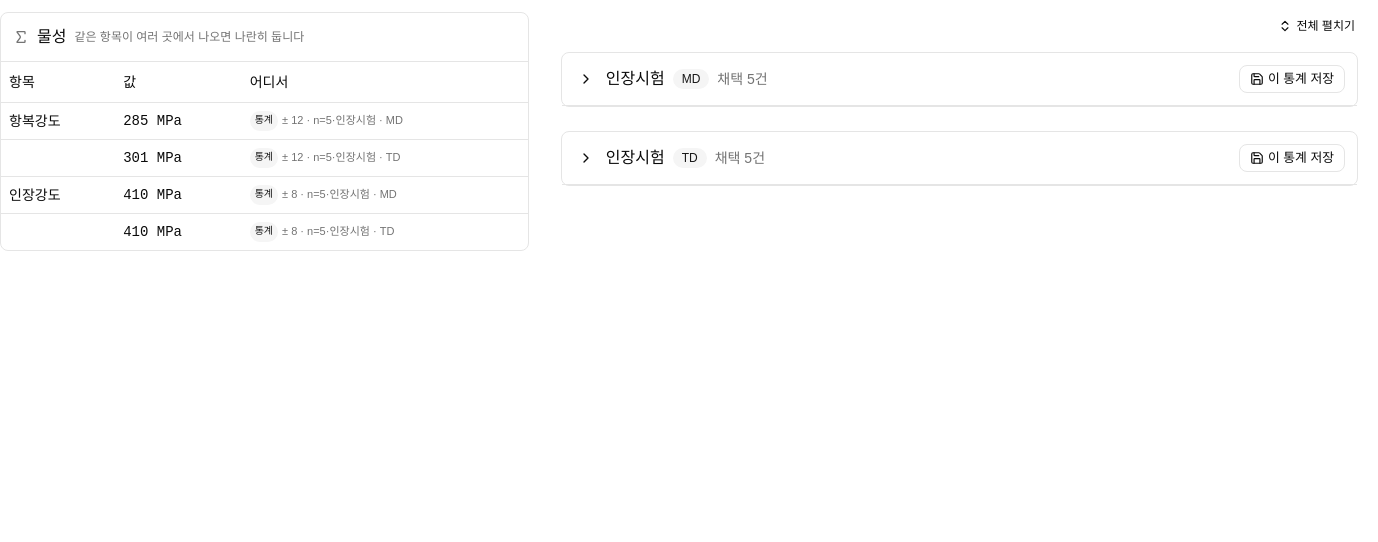
Test: 전체 여닫기 › 한 번에 전부 접힌다
The image size is (1378, 542).
Click the button "전체 펼치기": (1317, 26) [1267,12,1366,40]
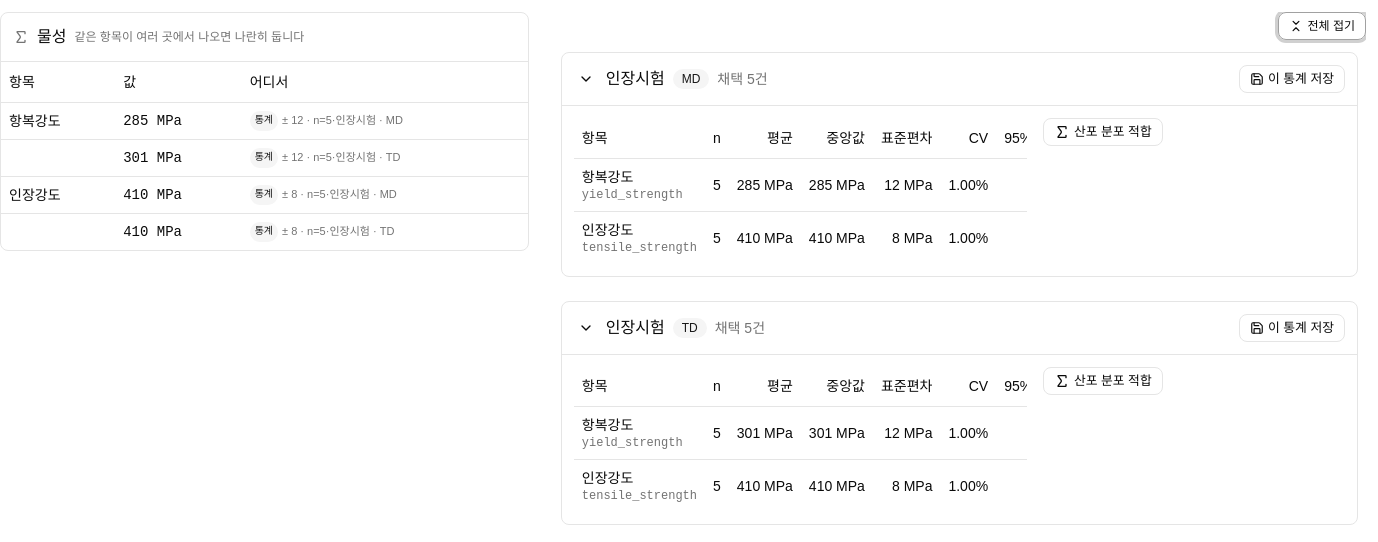
Click the button "전체 접기": (1322, 26) [1278,12,1366,40]
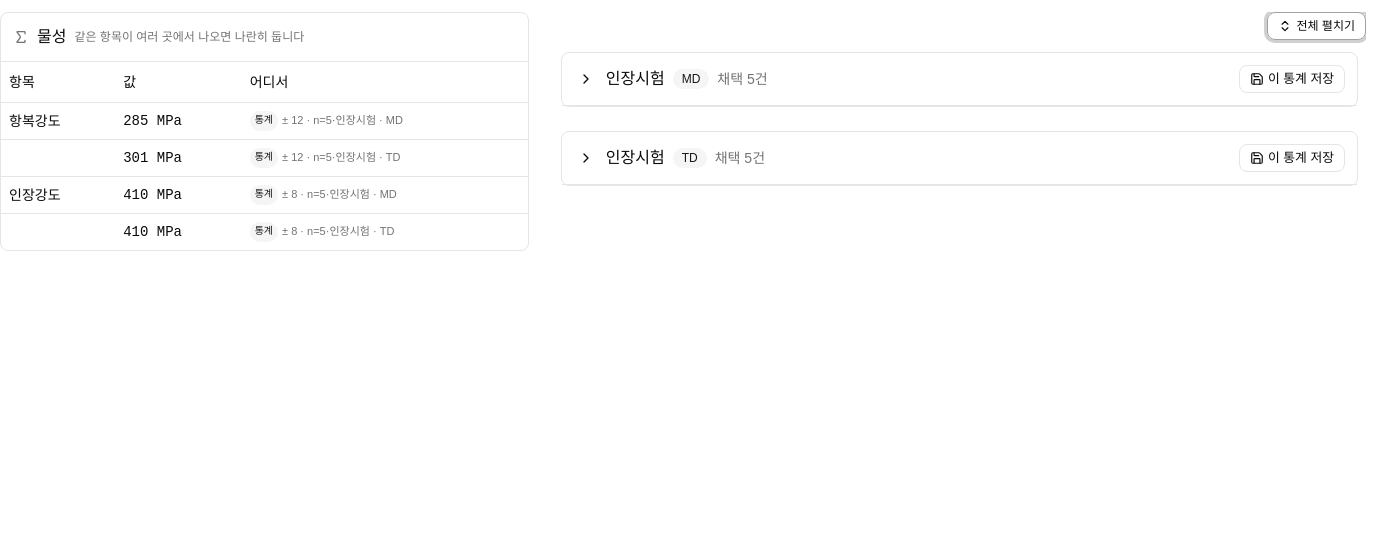
Check: the button named "인장시험 MD 펼치기" is shown, box [574,67,598,91]
